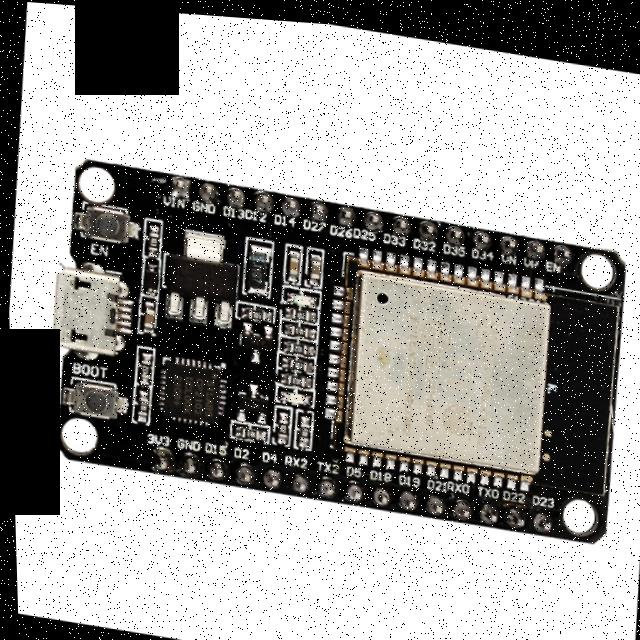2235: (70, 199, 136, 250), (58, 373, 122, 419)
4439: (234, 318, 274, 361), (230, 378, 267, 421)
IC: (314, 240, 562, 482), (160, 226, 239, 323), (154, 351, 227, 425)
LED: (287, 285, 317, 304), (276, 384, 308, 400)
capacitor 1V5: (304, 247, 323, 277), (284, 245, 299, 275), (140, 302, 154, 334)
connector -5v-: (39, 259, 129, 356)
diode -D1-: (243, 243, 267, 288), (139, 262, 158, 290)
resistor IR1: (286, 302, 312, 320), (135, 351, 150, 381), (273, 404, 288, 434), (282, 367, 306, 385), (143, 225, 158, 253), (285, 321, 310, 337), (284, 337, 307, 354), (243, 302, 264, 320), (233, 421, 258, 436), (285, 352, 307, 369), (133, 391, 146, 417), (295, 415, 307, 440)
